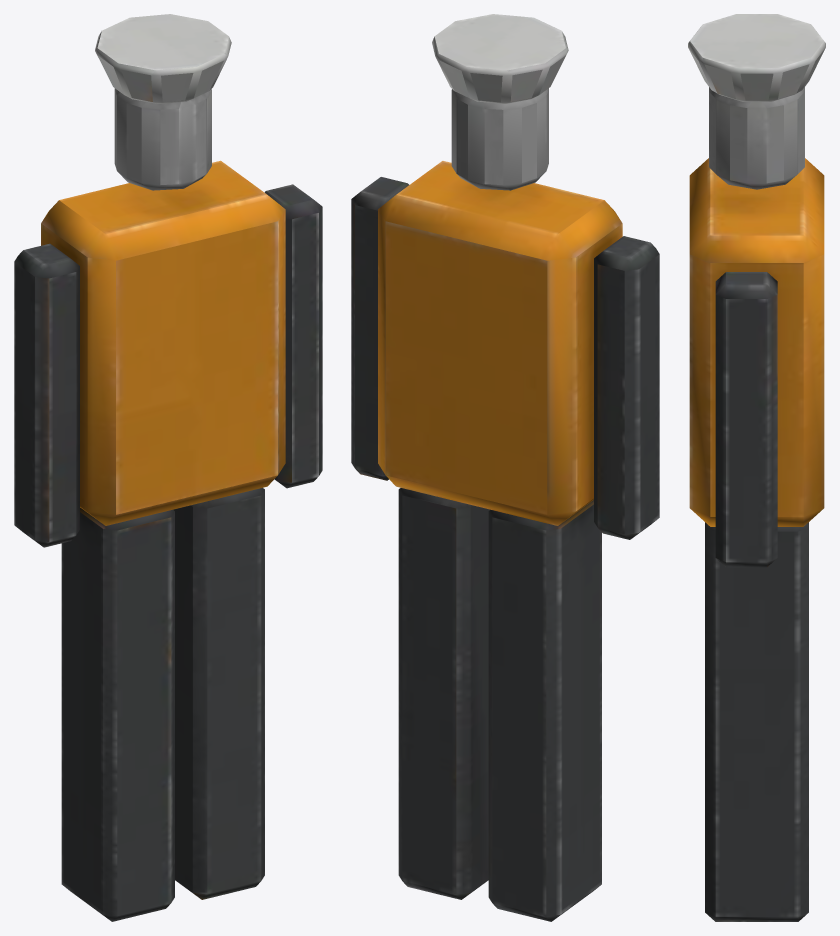
The model's file is worker.glb.
The picture shows the model from 3 angles, left to right: view 1: azimuth 30°, elevation 25°; view 2: azimuth 150°, elevation 25°; view 3: azimuth 270°, elevation 25°; orthographic projection.
Parts seen in each view (by area): view 1: worker; view 2: worker; view 3: worker.
Boxes of the visible parts, <box> form: worker: <box>14,14,322,921</box>; worker: <box>351,14,659,921</box>; worker: <box>688,14,825,921</box>.
Size of the model in its own units: 0.6399 by 1.8 by 0.2657.
1 material, 1 textured.
